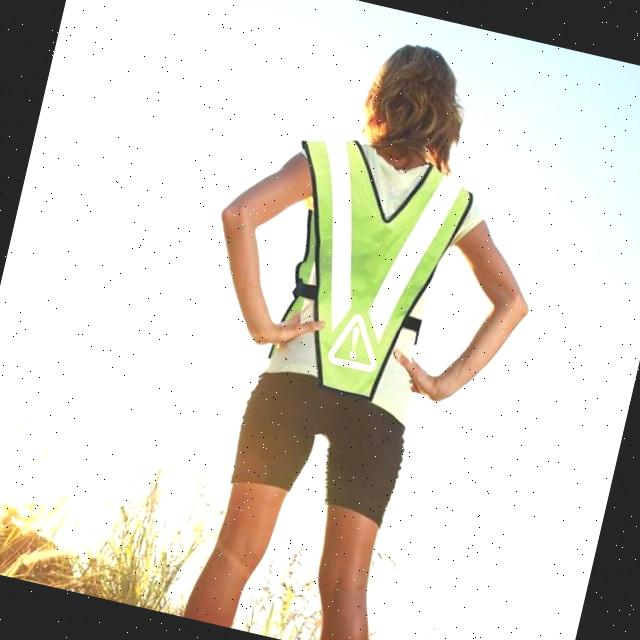vest: (272, 142, 461, 413)
